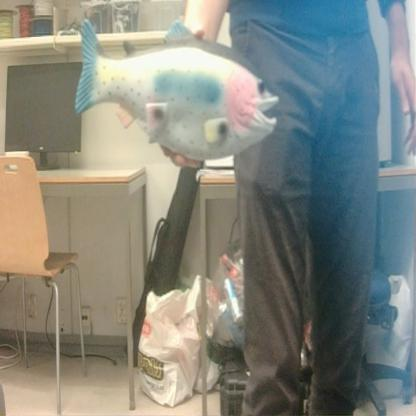rubberfish: (70, 4, 282, 168)
